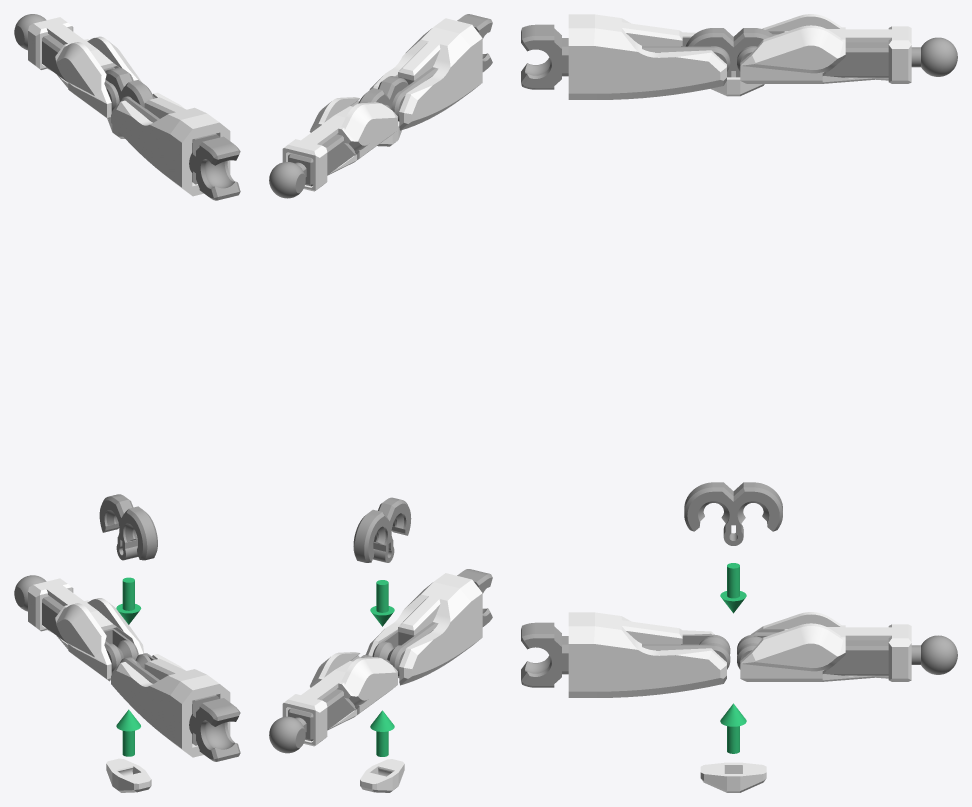
The model's file is knee.glb.
3 renders of one model, left to right at view 1: azimuth 30°, elevation 25°; view 2: azimuth 150°, elevation 25°; view 3: azimuth 270°, elevation 25°, orthographic. The views are drawn at different scales.
Parts seen in each view (by area): view 1: Body1.017, Body1.023, Body1.024, Body1.018, Body2.001, Body1.014, Body1.020, Body1.022, Body1.016, Body1.025, Body2, Body1.021 (+3 smaller); view 2: Body1.023, Body1.017, Body1.018, Body1.024, Body2.001, Body1.022, Body1.016, Body1.025, Body1.021, Body2, Arrow.003, Arrow (1) (+3 smaller); view 3: Body1.023, Body1.017, Body1.024, Body1.018, Body1.022, Body2.001, Body1.016, Body1.020, Body1.014, Body1.025, Body2, Body1.021.
Boxes of the visible parts, x1,y1,x2,y2 form: Body1.017: (111,92,230,196); Body1.023: (111,654,230,757); Body1.024: (28,578,143,681); Body1.018: (28,17,142,119); Body2.001: (99,494,157,560); Body1.014: (193,136,240,200); Body1.020: (193,698,240,761); Body1.022: (14,575,138,673); Body1.016: (14,14,119,112); Body1.025: (106,758,151,792); Body2: (105,67,154,108); Body1.021: (120,653,219,745); Body1.023: (365,573,482,685); Body1.017: (369,18,482,130); Body1.018: (282,97,397,191); Body1.024: (282,652,397,746); Body2.001: (353,497,411,562); Body1.022: (269,654,390,753); Body1.016: (269,104,390,198); Body1.025: (360,759,404,792); Body1.021: (372,622,438,676); Body2: (358,76,408,109); Arrow.003: (370,580,394,626); Arrow (1): (370,710,394,756); Body1.023: (568,612,726,697); Body1.017: (568,14,726,99); Body1.024: (740,612,911,681); Body1.018: (740,14,911,83); Body1.022: (737,634,957,675); Body2.001: (684,482,782,545); Body1.016: (737,37,957,77); Body1.020: (521,622,568,687); Body1.014: (521,24,568,89); Body1.025: (700,762,766,792); Body2: (685,28,773,77); Body1.021: (642,634,730,669).
Bounding box in the file's own units: 9 × 128 × 66.22.
